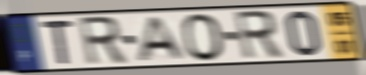0: (285, 10, 323, 58)
A: (135, 15, 189, 63)
O: (180, 12, 228, 63)
R: (76, 15, 130, 68), (232, 9, 286, 62)
T: (39, 18, 76, 66)
